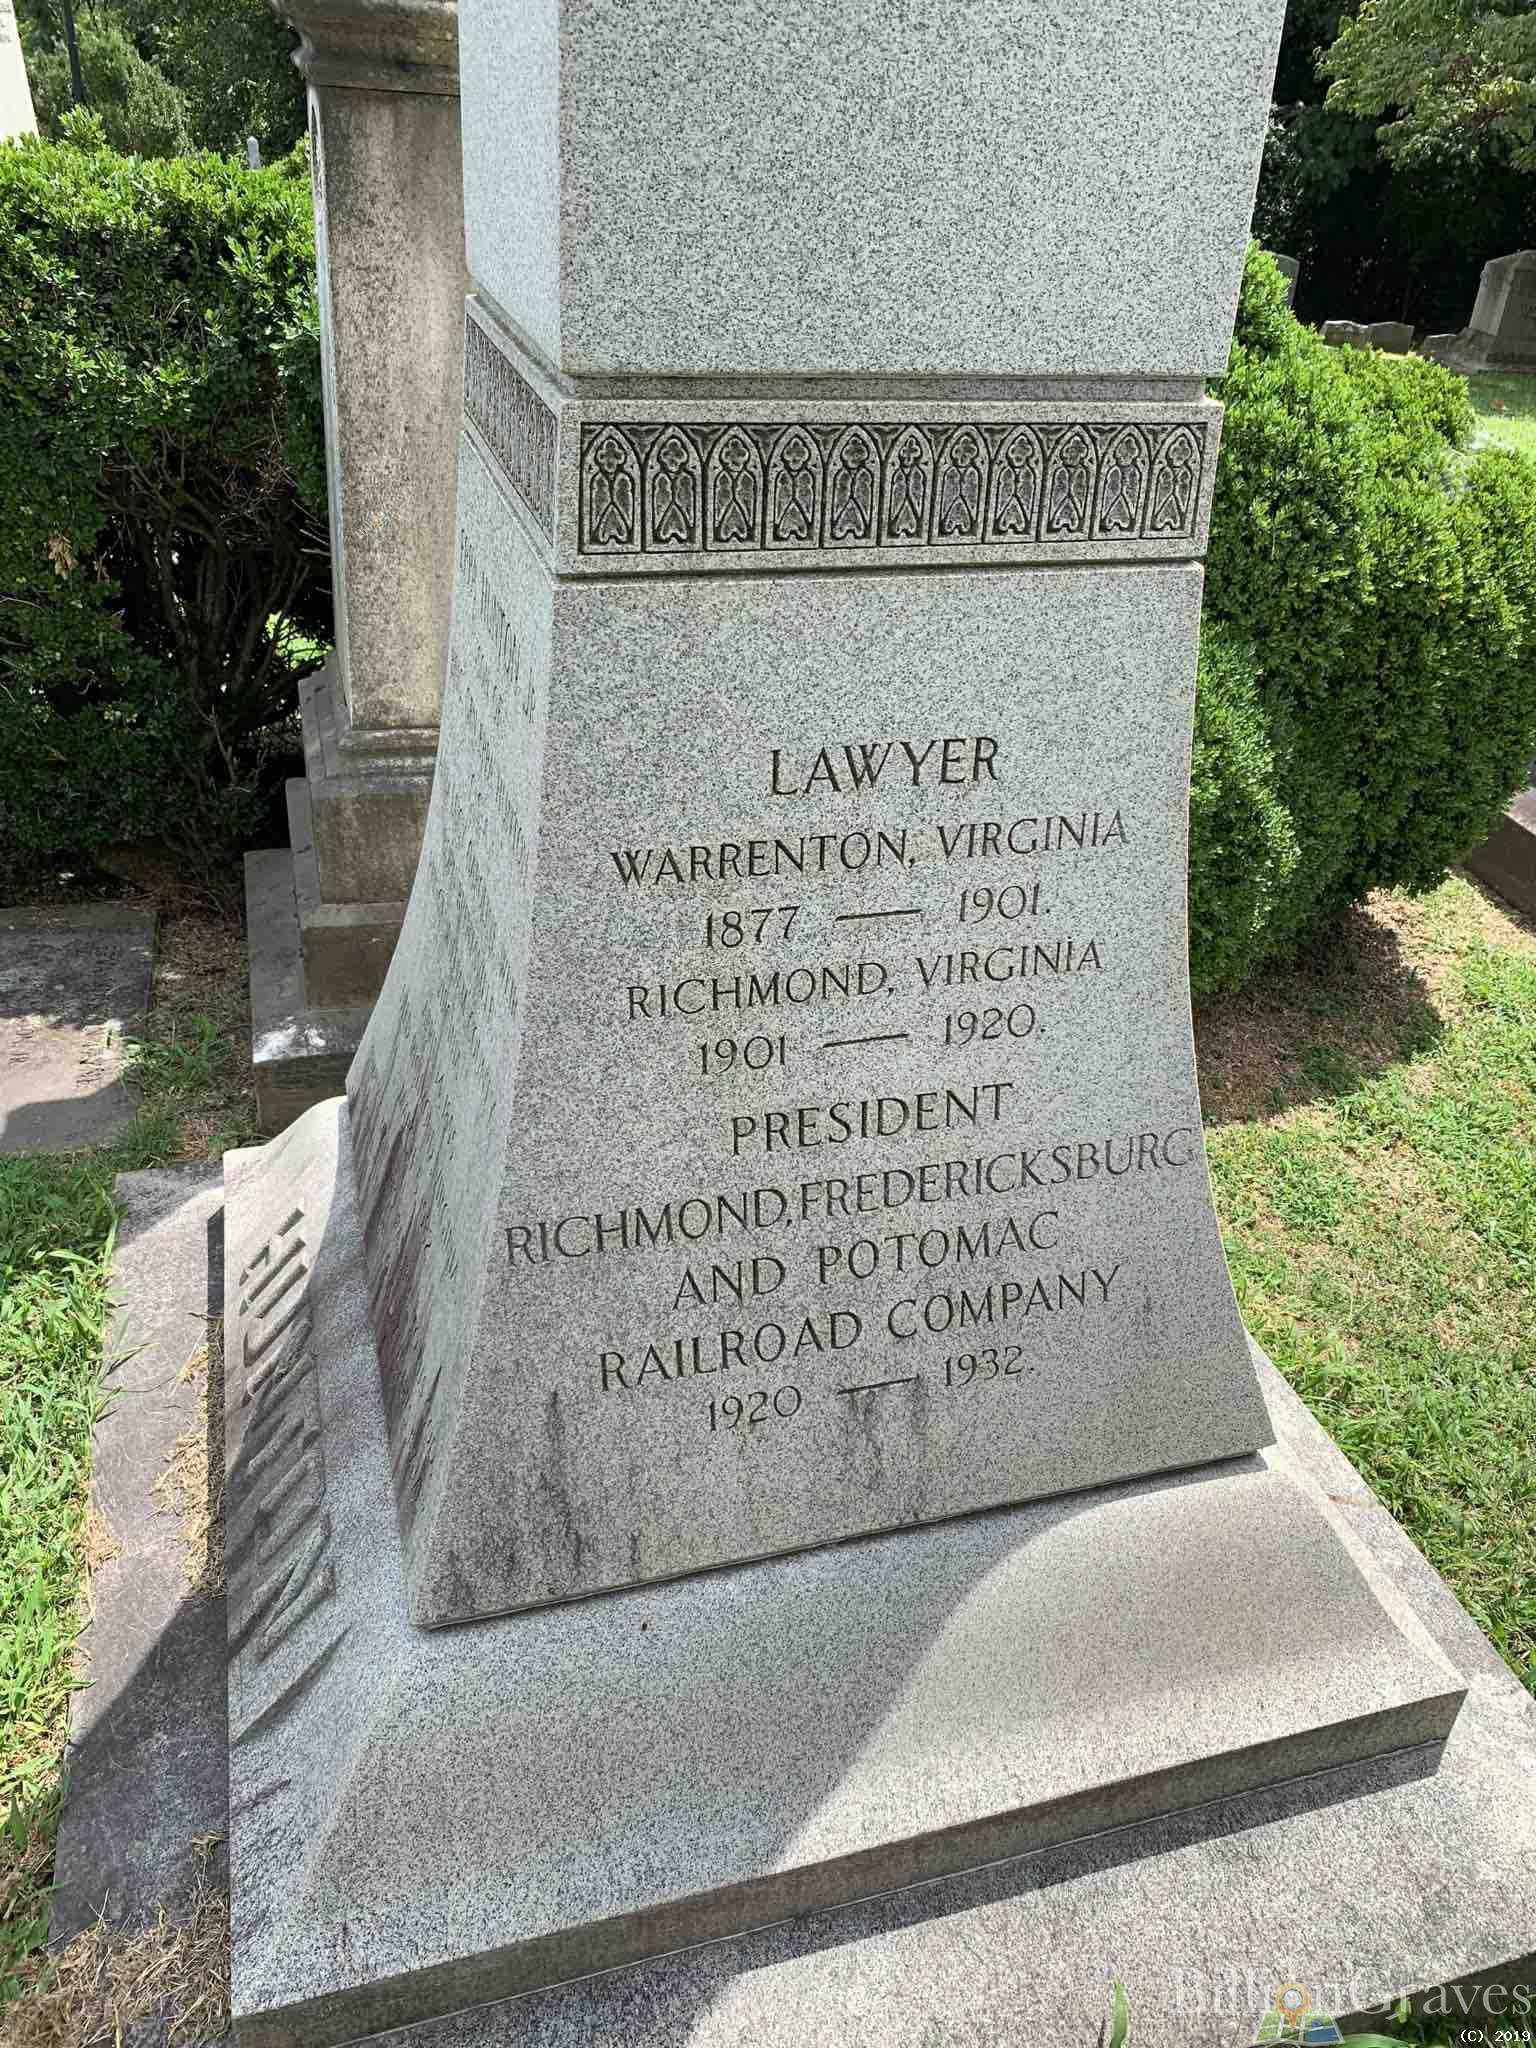obelisk: (366, 0, 1275, 1619)
